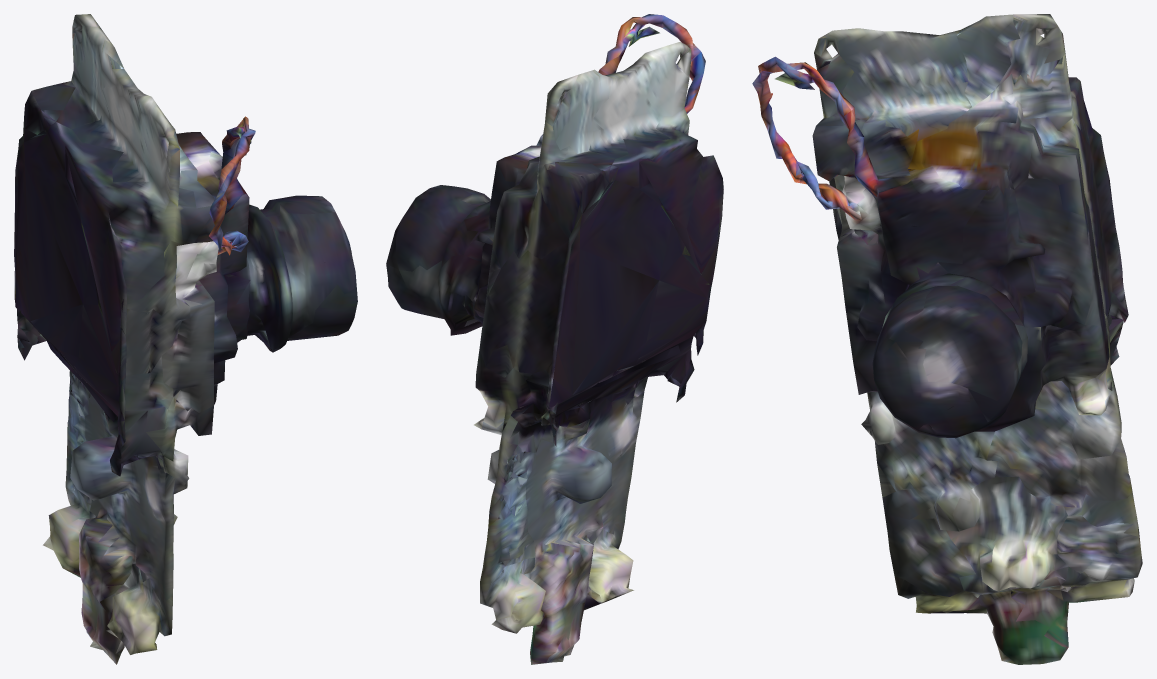
The model's file is camera-small.obj.
3 views of the same model, side by side, from view 1: azimuth 30°, elevation 25°; view 2: azimuth 150°, elevation 25°; view 3: azimuth 270°, elevation 25° (orthographic). The views are drawn at different scales.
Size of the model in its own units: 35.38 by 78.58 by 43.48.
Materials: 1 (1 with a texture image).
